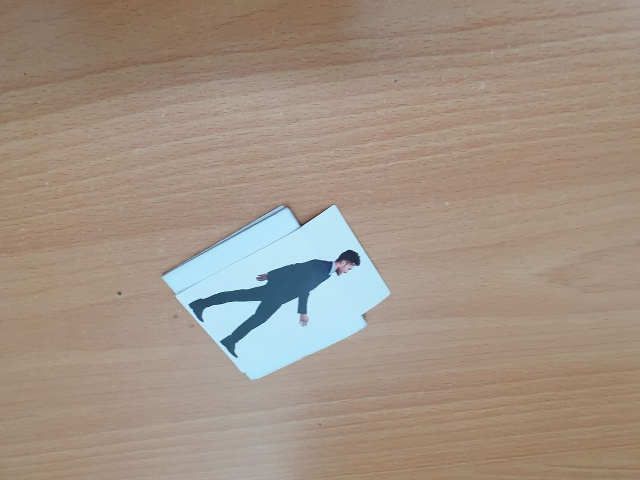Person: (189, 249, 362, 360)
